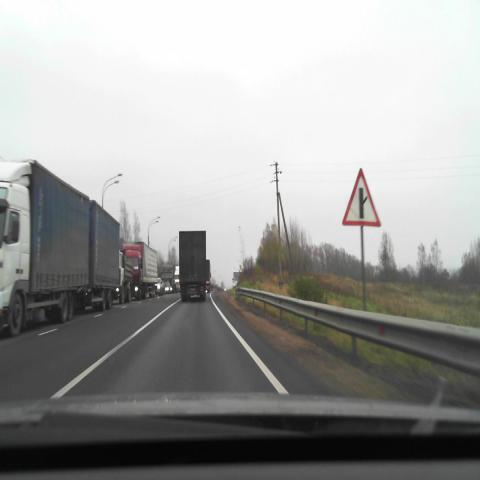2_3_4: (343, 168, 380, 227)
